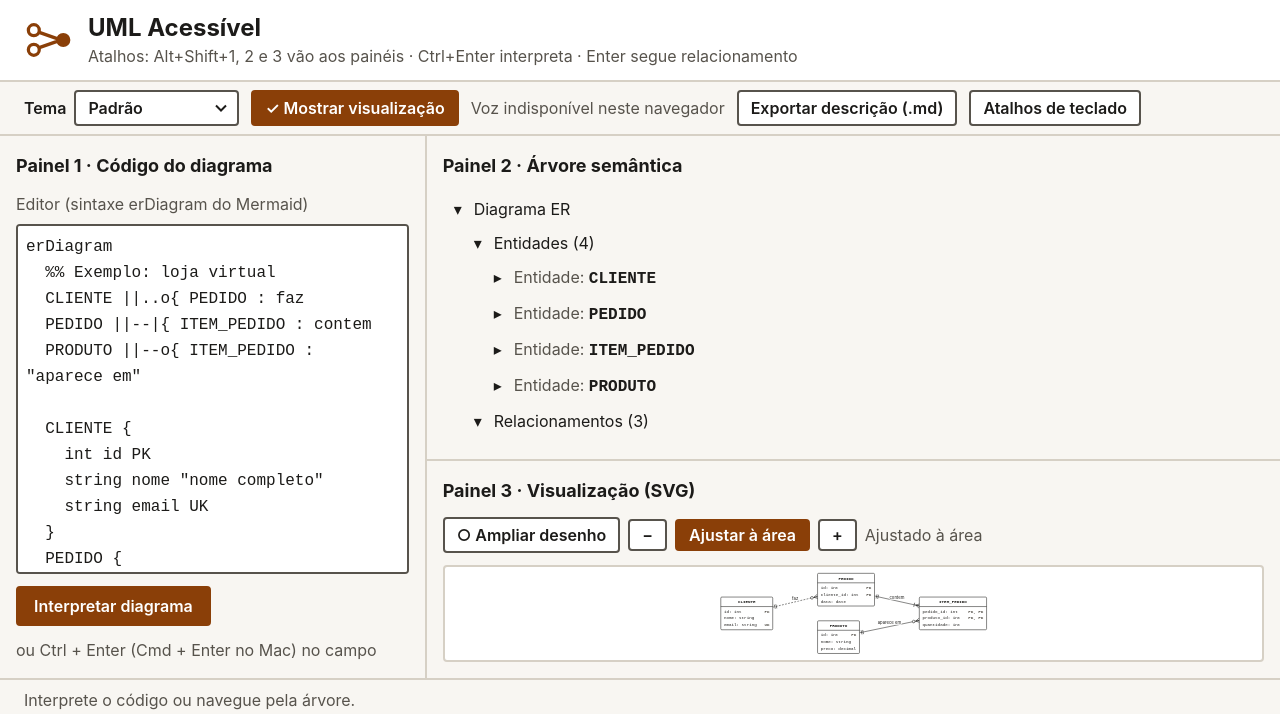
App › descreve os erros em texto e leva o cursor até a linha do erro
This screenshot has width=1280, height=714.
Later steps or results of the test are not shown.
Clear the text box labelled "Editor (sintaxe erDiagram do Mermaid)" at (212, 399), box [16,224,409,574]
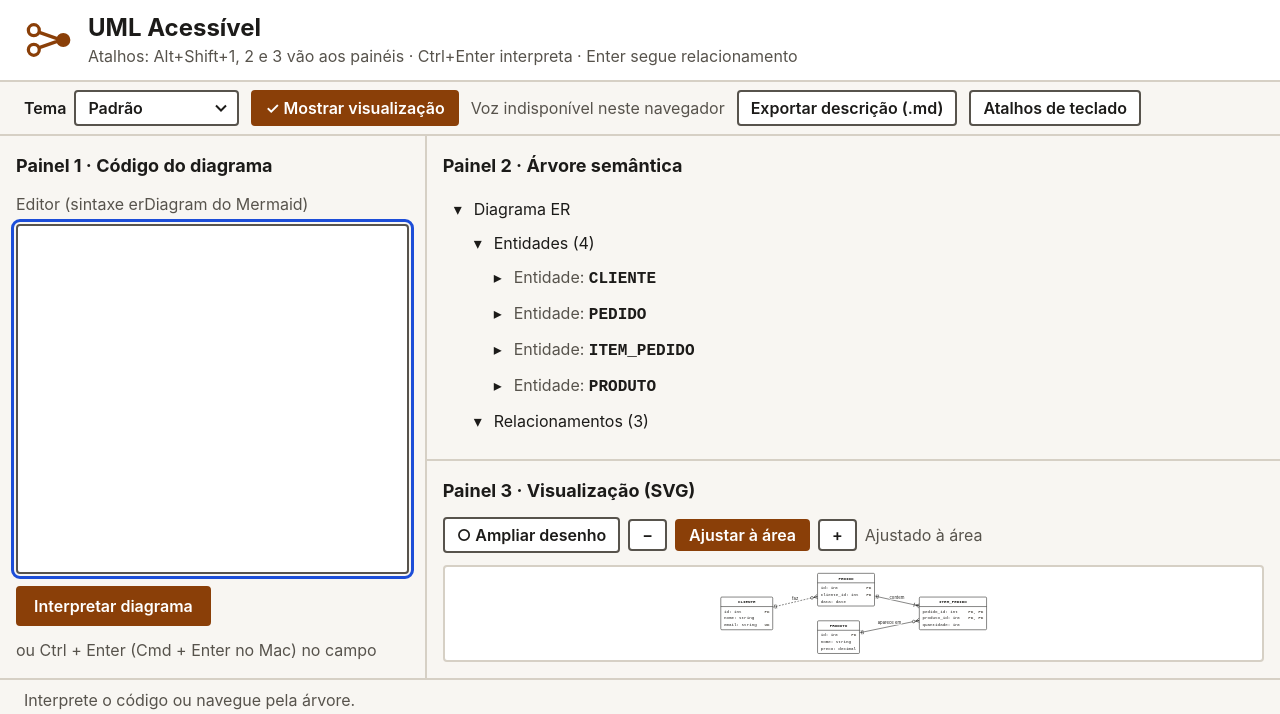
Click the text box labelled "Editor (sintaxe erDiagram do Mermaid)" at (212, 399), box [16,224,409,574]
Type keys "erDiagram   CLIENTE ||..o{ PEDIDO"
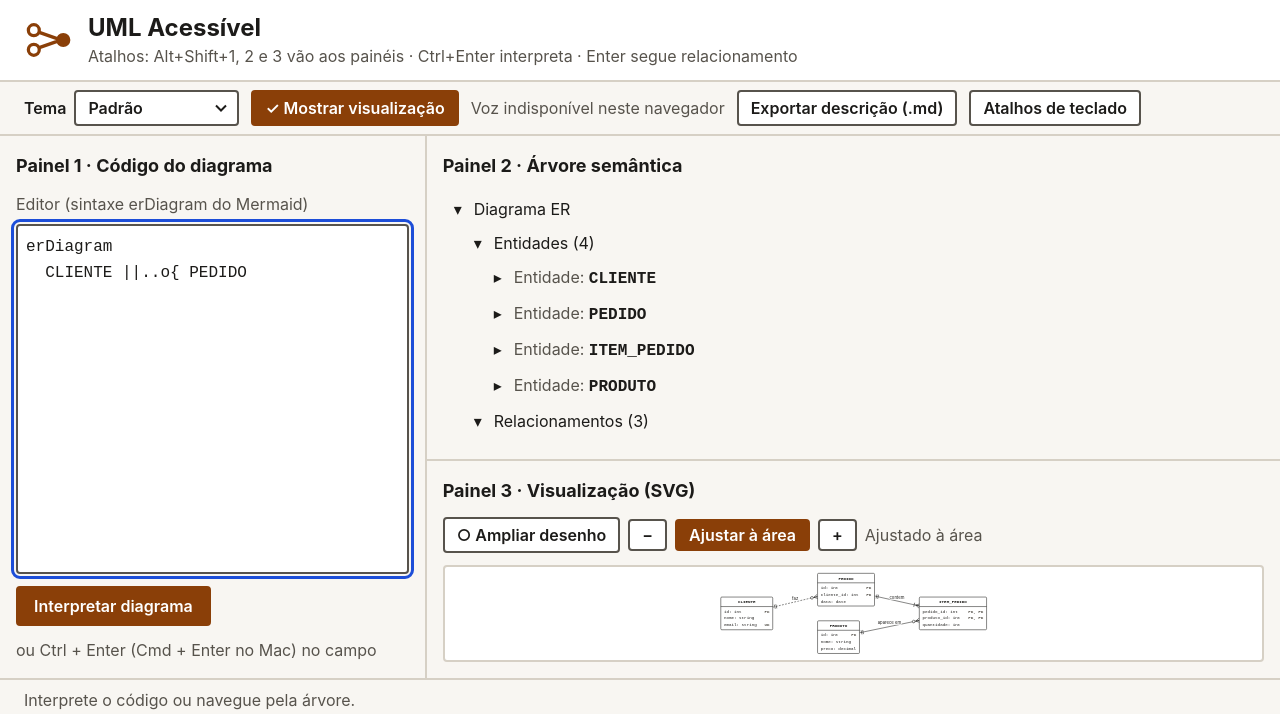
Type keys "{Control>}{Enter}{/Control}"
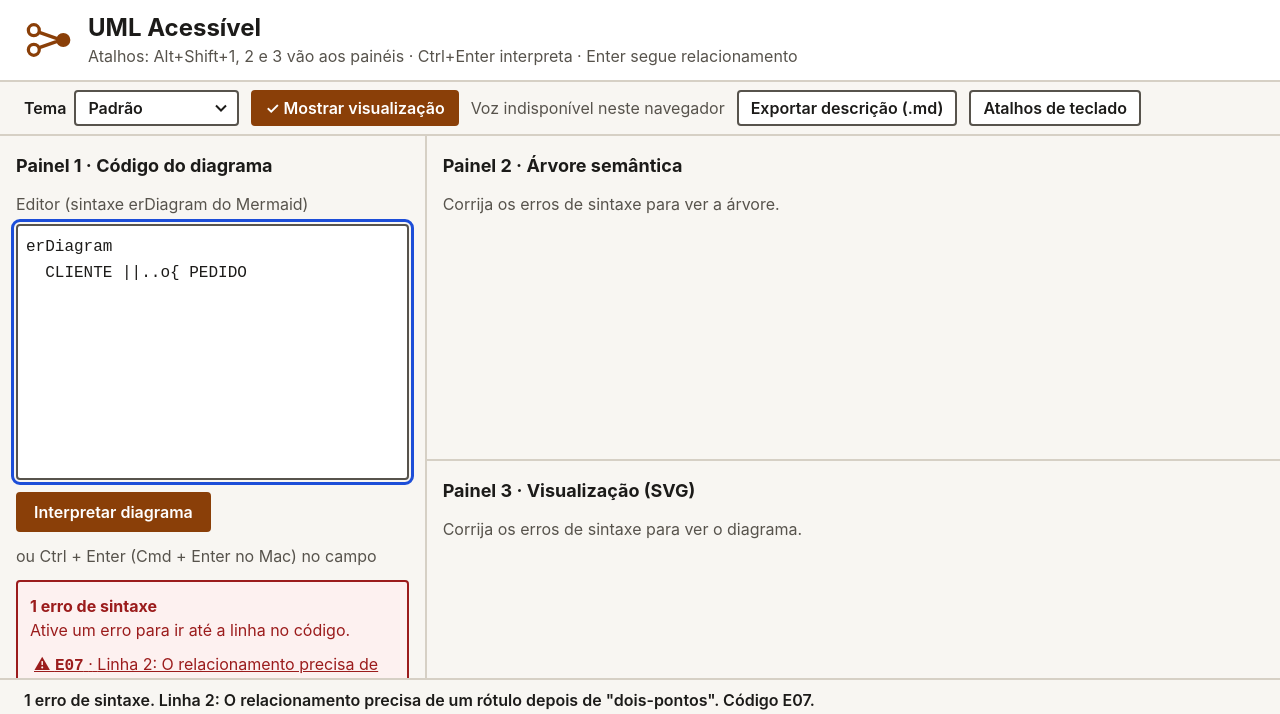
Now the text "Corrija os erros de sintaxe para ver a árvore." is shown, box [443,194,780,214]
